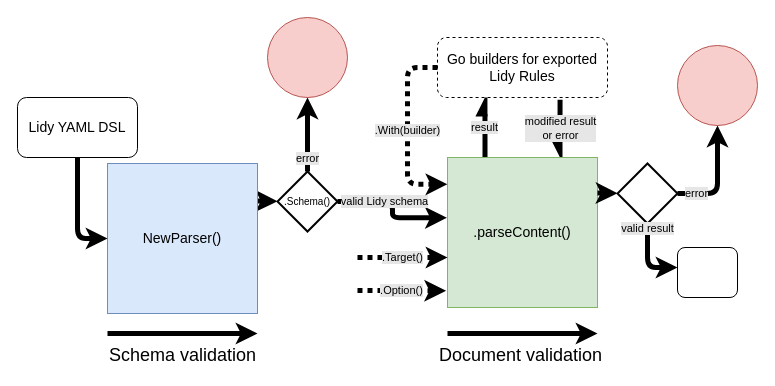
Image size: 775x386. Some labels were removed from this diagram. The shapes that lost their labels are listed below. From the top down, each one's centre as x and y in pixels, then its label:
the point at 307,57: Schema validation error(s)
the point at 717,85: Document validation error(s)
the point at 707,272: Results
